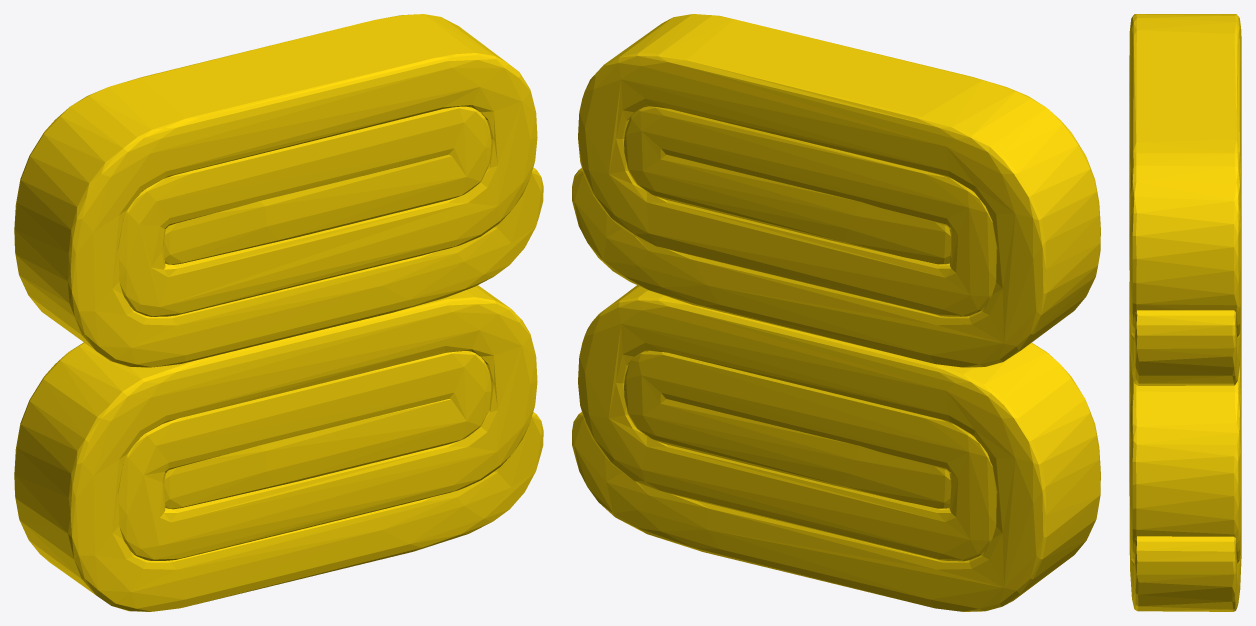
Rendered from eggroll.glb.
3 renders of one model, left to right at view 1: azimuth 30°, elevation 25°; view 2: azimuth 150°, elevation 25°; view 3: azimuth 270°, elevation 25°, orthographic. The views are drawn at different scales.
Visible parts, largest first — view 1: Plane.162; view 2: Plane.162; view 3: Plane.162.
Part boxes in pixels (x1=…): Plane.162: x1=14, y1=14, x2=543, y2=611; Plane.162: x1=572, y1=14, x2=1100, y2=611; Plane.162: x1=1129, y1=14, x2=1241, y2=611.
Size of the model in its own units: 14.01 by 13.72 by 3.1.
